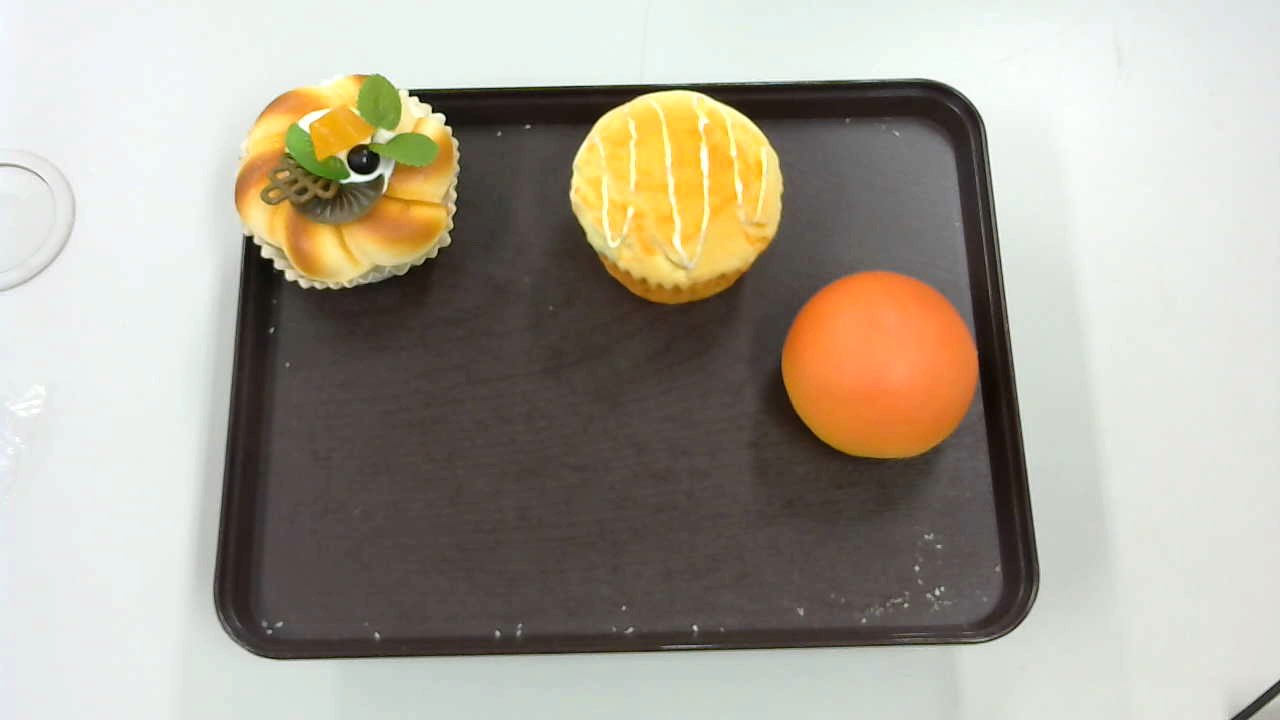bun: (782, 270, 980, 461)
cupcake: (569, 87, 783, 305)
fruit tart: (234, 73, 459, 286)
